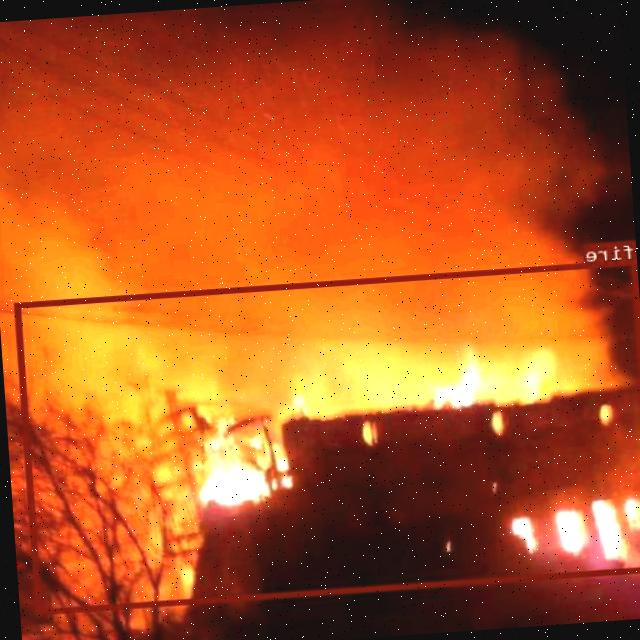fire: (16, 257, 640, 612)
